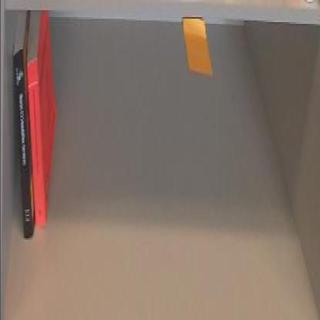book-spine: (13, 48, 33, 239), (27, 59, 45, 229)
